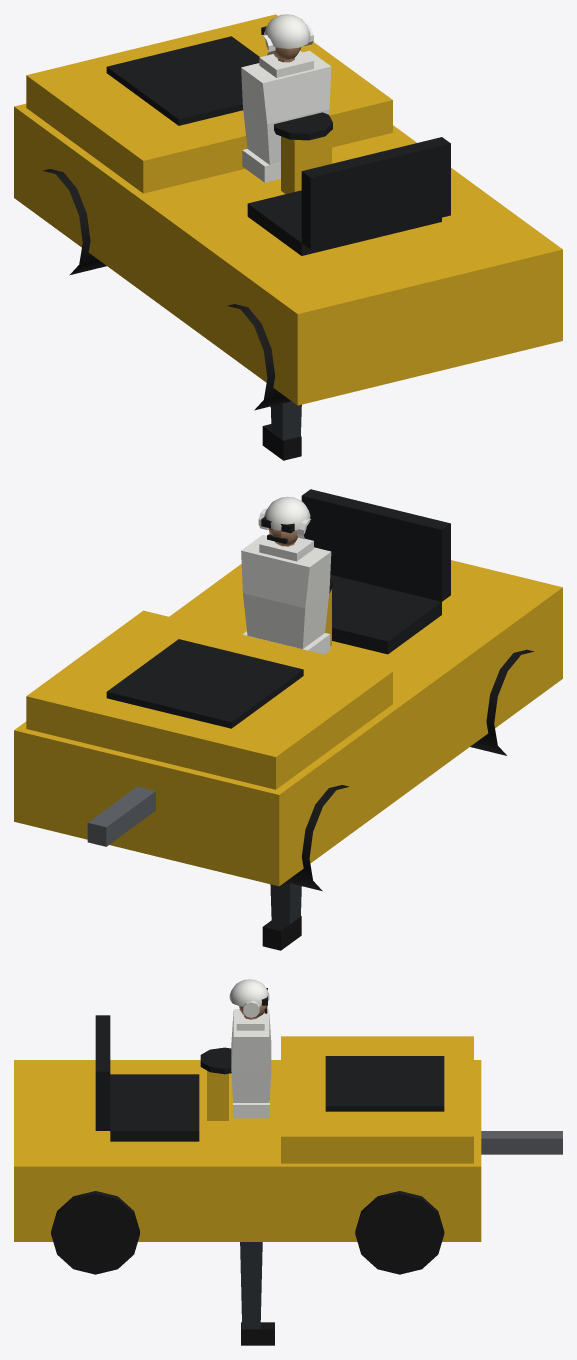
Rendered from deckcrew.glb.
3 views of the same model, one above another, from view 1: azimuth 30°, elevation 25°; view 2: azimuth 150°, elevation 25°; view 3: azimuth 270°, elevation 25° (orthographic). The views are drawn at different scales.
Parts seen in each view (by area): view 1: tractor, crew_torso, crew_leg; view 2: tractor, crew_torso, crew_leg, crew_head; view 3: tractor, crew_torso, crew_leg.
Boxes of the visible parts, box(x1,y1,x2,y2) form: tractor: box(14, 14, 562, 410); crew_torso: box(241, 14, 331, 182); crew_leg: box(262, 401, 301, 460); tractor: box(14, 489, 562, 891); crew_torso: box(241, 496, 331, 654); crew_leg: box(262, 882, 301, 950); crew_head: box(261, 516, 298, 546); tractor: box(14, 1015, 562, 1274); crew_torso: box(229, 979, 271, 1118); crew_leg: box(240, 1242, 274, 1345).
Bounding box in the file's own units: 1.8 × 2.68 × 3.7.
